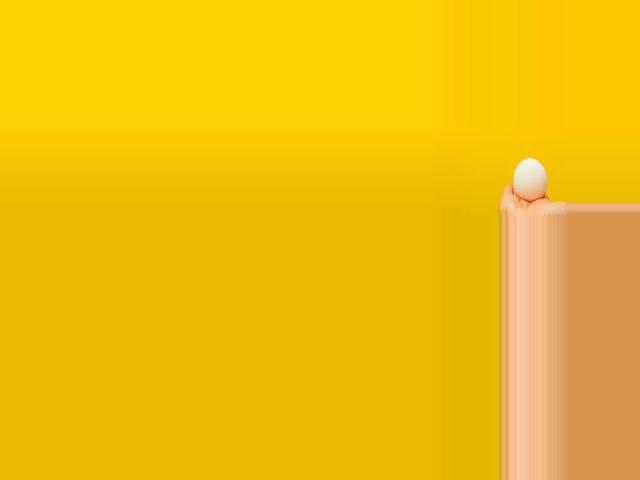egg: (512, 158, 545, 201)
